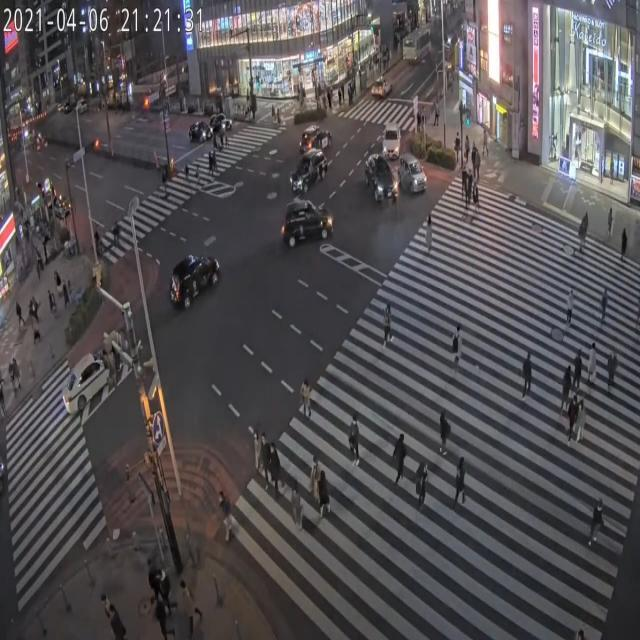humans: (209, 483, 240, 550), (386, 426, 408, 496), (451, 452, 475, 512), (590, 493, 610, 560), (449, 320, 469, 382), (344, 406, 360, 477), (381, 296, 396, 362), (288, 477, 304, 536), (317, 468, 331, 528), (302, 371, 316, 429), (585, 335, 598, 397), (438, 412, 454, 461), (415, 460, 429, 512), (576, 205, 589, 261), (562, 364, 574, 420), (605, 347, 618, 398), (522, 344, 532, 410), (423, 212, 436, 260), (572, 350, 584, 402), (309, 454, 319, 513), (271, 440, 280, 500), (261, 434, 270, 492), (568, 397, 578, 446), (577, 401, 586, 455), (252, 427, 261, 478), (599, 288, 609, 333), (465, 165, 474, 214), (619, 224, 629, 267), (459, 165, 468, 209), (564, 287, 572, 330), (471, 183, 480, 221)
